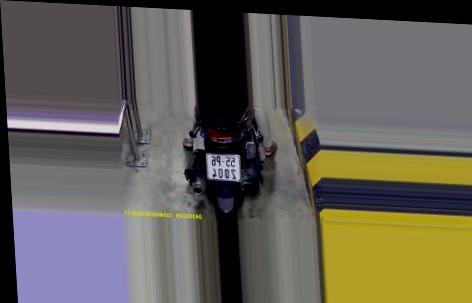License_Plate: (203, 152, 245, 185)
